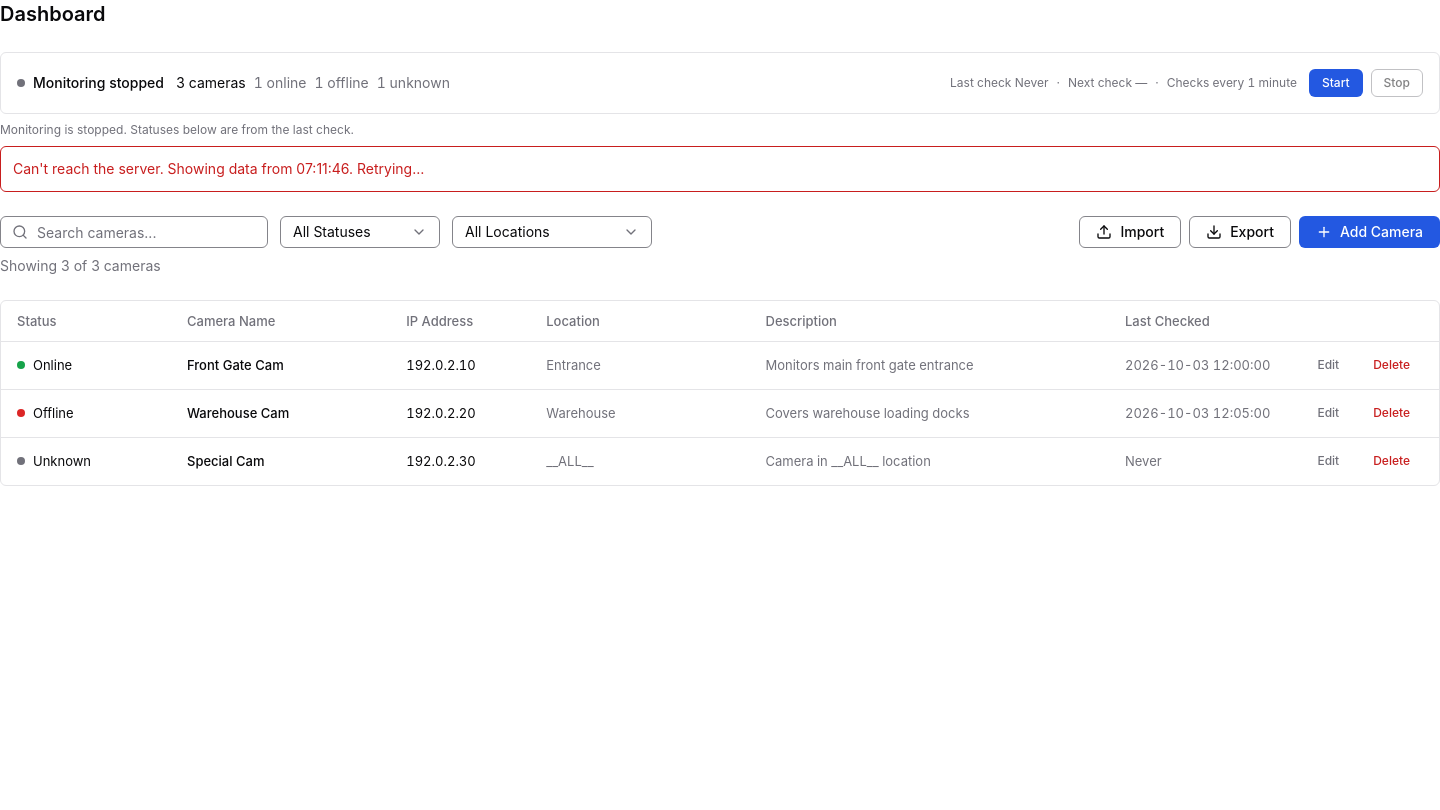
Test: DashboardPage component tests › shows form-level message on non-JSON 500 inside dialog
Expected: the text "Front Gate Cam" is shown, [187, 357, 284, 373]
Open Add Camera dialog
Click the button with test id "add-camera-toolbar-button": (1370, 232) [1299, 216, 1439, 248]
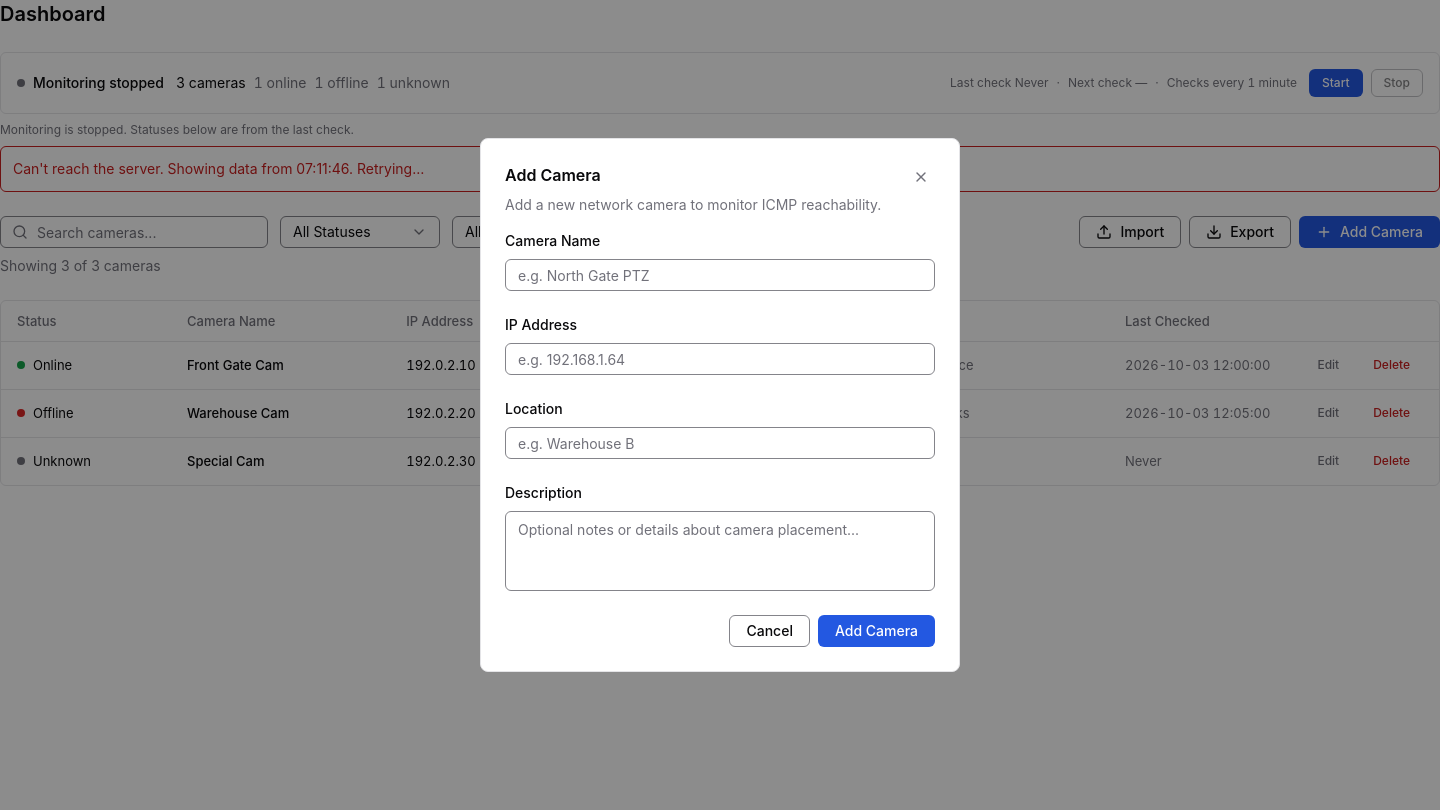
Expected: the dialog with test id "camera-form-dialog" is shown, [480, 138, 960, 672]
Fill valid form
In the field with test id "camera-name-input": (720, 275) [505, 259, 935, 291], type "New Camera"
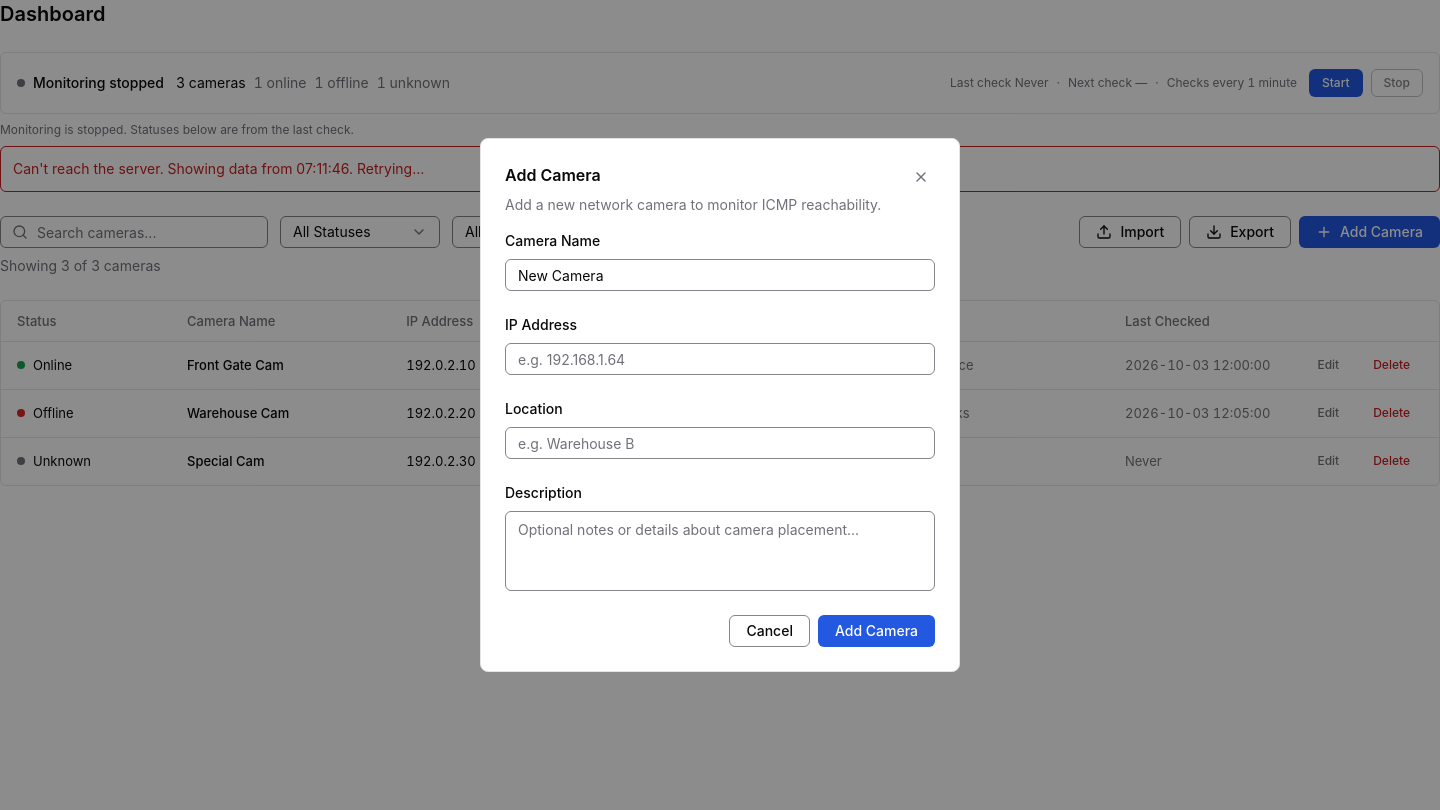
In the field with test id "camera-ip-input": (720, 359) [505, 343, 935, 375], type "192.0.2.55"
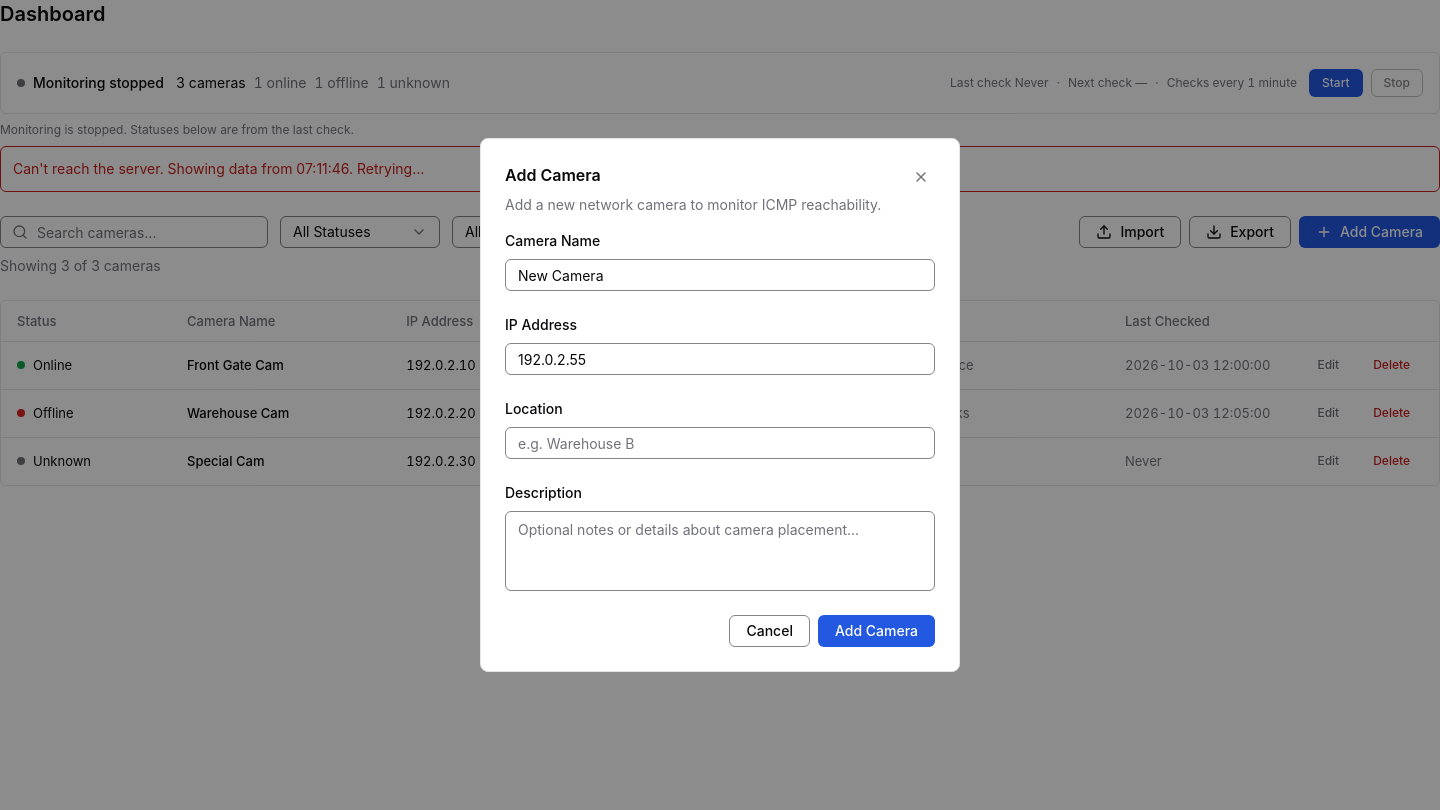
In the field with test id "camera-location-input": (720, 443) [505, 427, 935, 459], type "HQ"
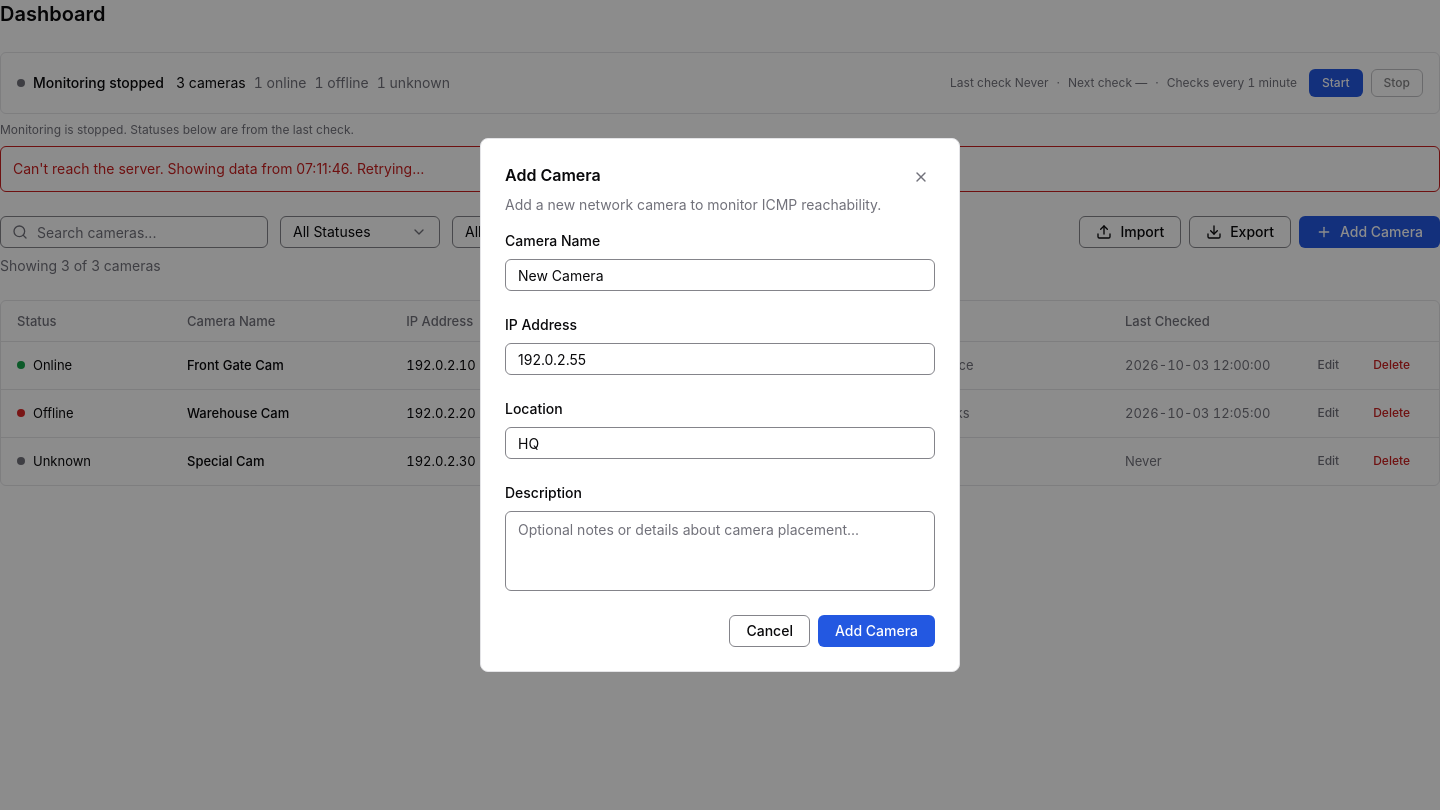
In the text box with test id "camera-description-input": (720, 551) [505, 511, 935, 591], type "Notes"
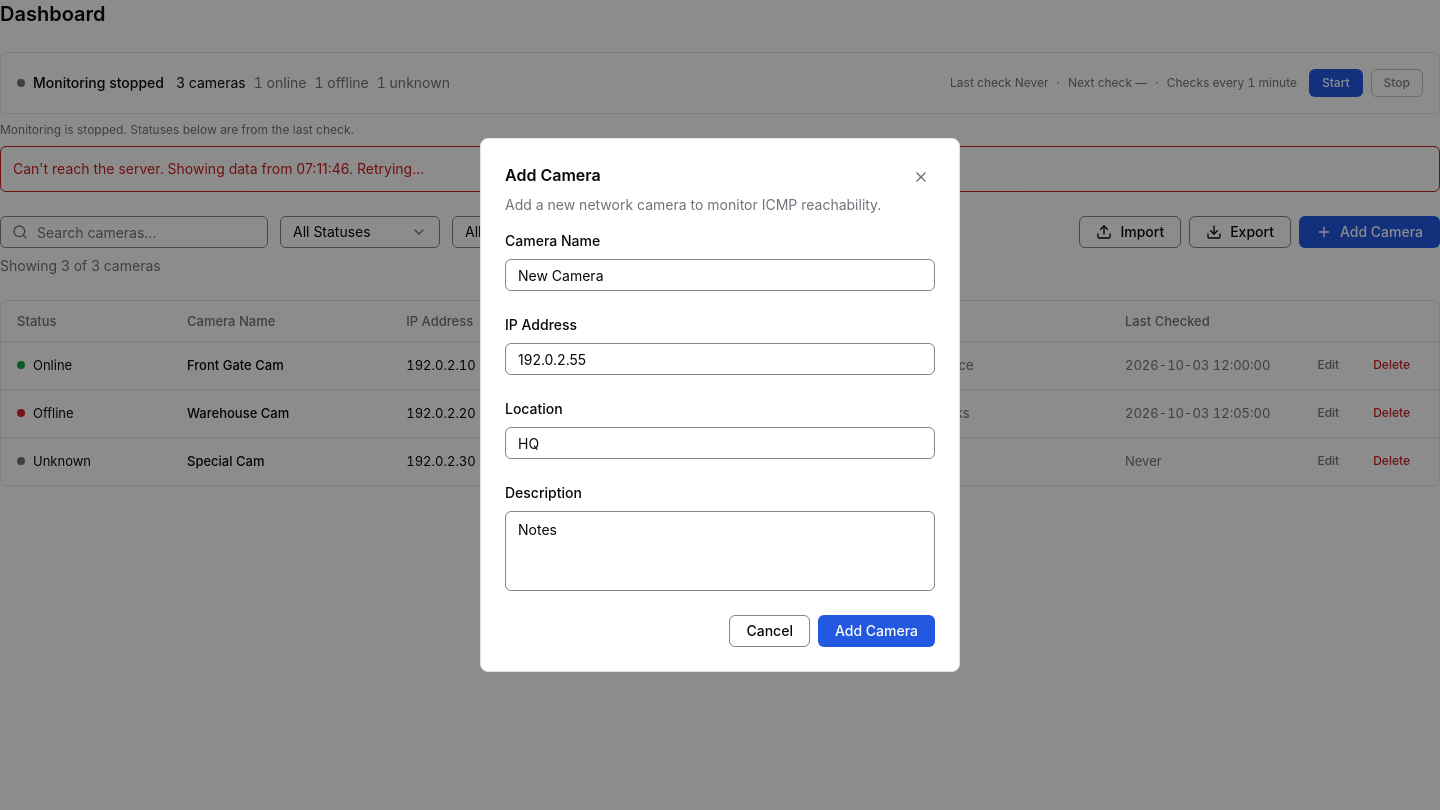
Click the button with test id "submit-camera-form-button": (876, 631) [818, 615, 935, 647]
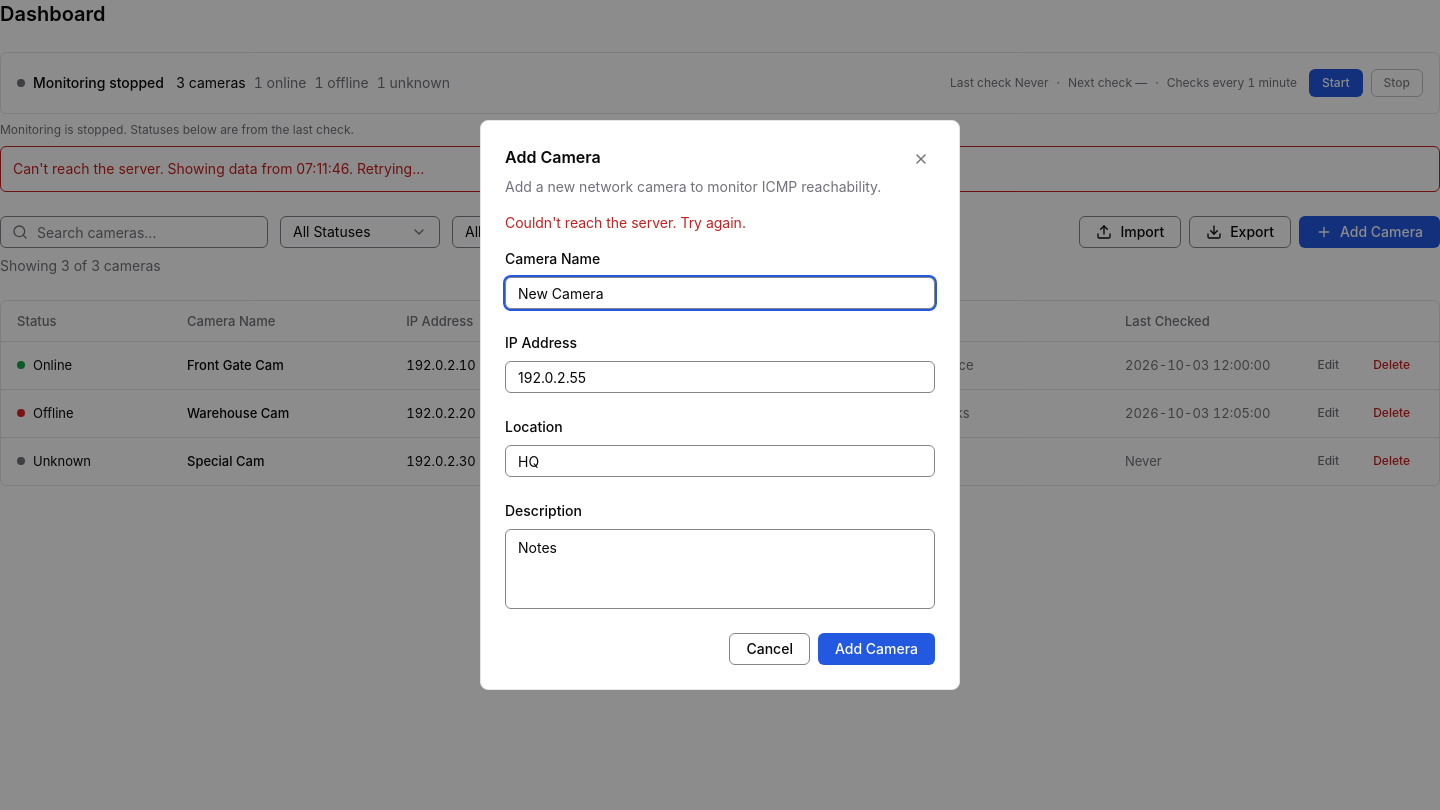
Expected: the message with test id "dialog-form-error" reads "Couldn't reach the server. Try again.", [505, 214, 746, 231]
